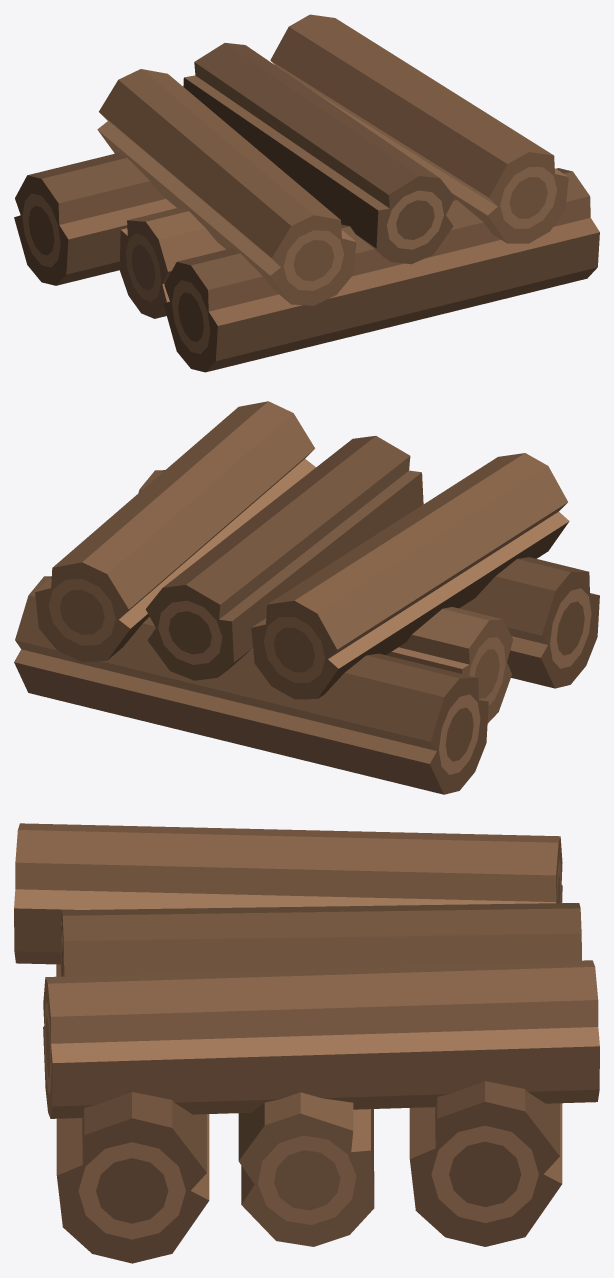
Rendered from bonfire_5.fbx.
3 renders of one model, top to bottom at view 1: azimuth 30°, elevation 25°; view 2: azimuth 150°, elevation 25°; view 3: azimuth 270°, elevation 25°, orthographic. The views are drawn at different scales.
Visible parts, largest first — view 1: bonfire_5; view 2: bonfire_5; view 3: bonfire_5.
Part boxes in pixels (x1,y1,x2,y2): bonfire_5: (14,14,599,372); bonfire_5: (14,401,599,794); bonfire_5: (14,823,599,1263).
Size of the model in its own units: 60.63 by 23.44 by 54.03.
1 material, 1 textured.
